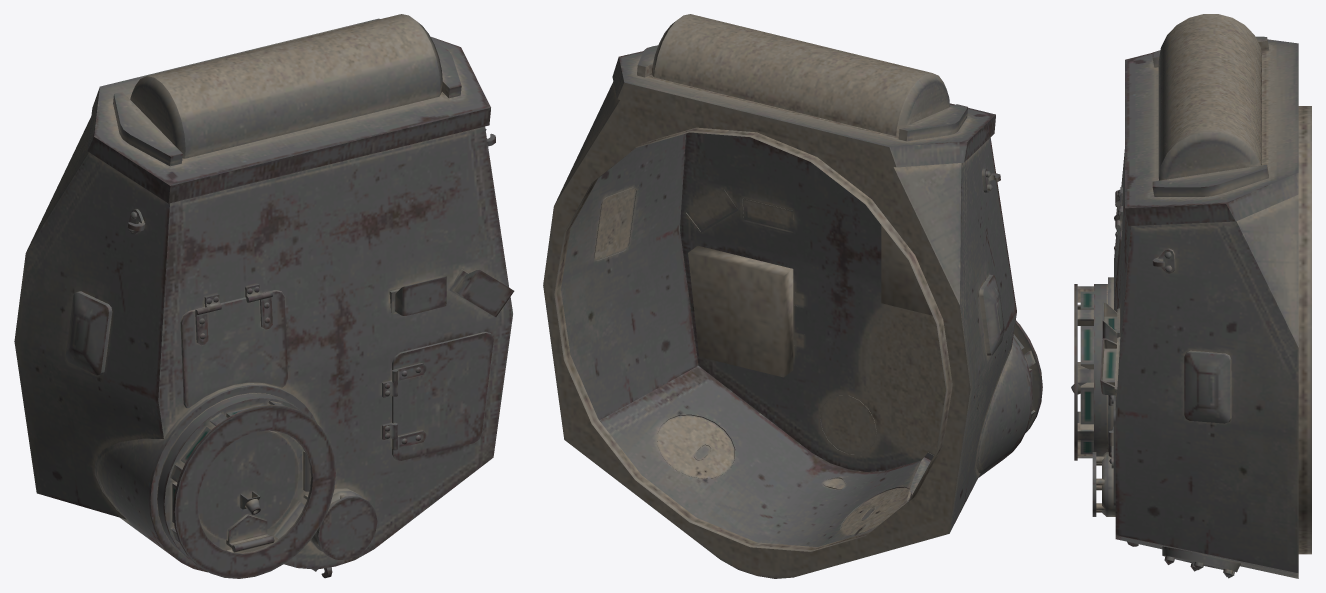
Rendered from Turret_02.glb.
3 renders of one model, left to right at view 1: azimuth 30°, elevation 25°; view 2: azimuth 150°, elevation 25°; view 3: azimuth 270°, elevation 25°, orthographic. The views are drawn at different scales.
Visible parts, largest first — view 1: set_0_group_0; view 2: set_0_group_0; view 3: set_0_group_0.
Part boxes in pixels (x1,y1,x2,y2): set_0_group_0: [14, 14, 514, 578]; set_0_group_0: [543, 14, 1042, 578]; set_0_group_0: [1071, 14, 1311, 578].
Bounding box in the file's own units: 1.96 × 2.18 × 0.9588.
1 material, 1 textured.
